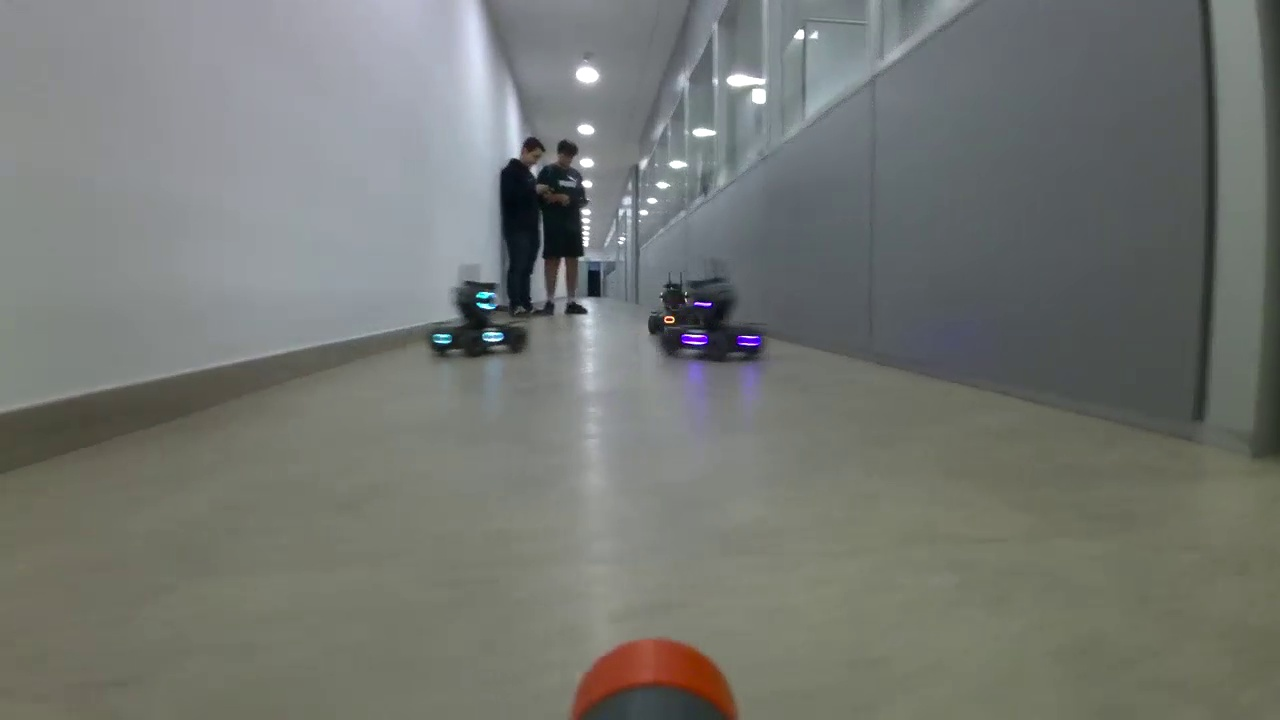robot: (427, 280, 529, 360), (679, 279, 767, 360), (648, 281, 693, 335)
